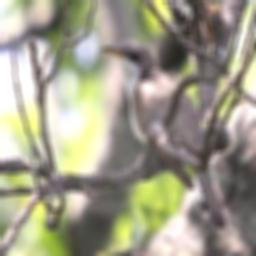Cuckoo: (98, 32, 226, 235)
